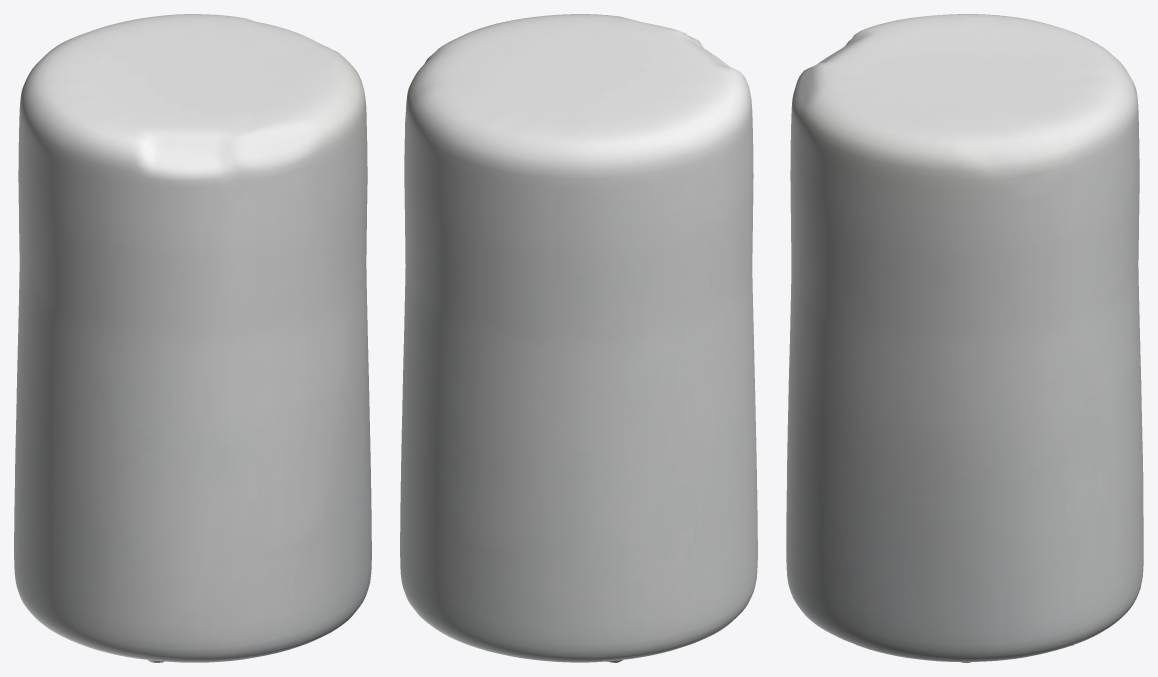
File: aroma-diffuser.glb
The picture shows the model from 3 angles, left to right: view 1: azimuth 30°, elevation 25°; view 2: azimuth 150°, elevation 25°; view 3: azimuth 270°, elevation 25°; orthographic projection.
Visible parts, largest first — view 1: tripo_node_7095be99-471a-4eaf-b1c0-c9f1df043665; view 2: tripo_node_7095be99-471a-4eaf-b1c0-c9f1df043665; view 3: tripo_node_7095be99-471a-4eaf-b1c0-c9f1df043665.
Part boxes in pixels (box(x1,y1,x2,y2)): tripo_node_7095be99-471a-4eaf-b1c0-c9f1df043665: box(14, 14, 371, 662); tripo_node_7095be99-471a-4eaf-b1c0-c9f1df043665: box(400, 14, 757, 662); tripo_node_7095be99-471a-4eaf-b1c0-c9f1df043665: box(786, 14, 1143, 662).
Size of the model in its own units: 0.08 by 0.1299 by 0.08.
Materials: 1 (1 with a texture image).
